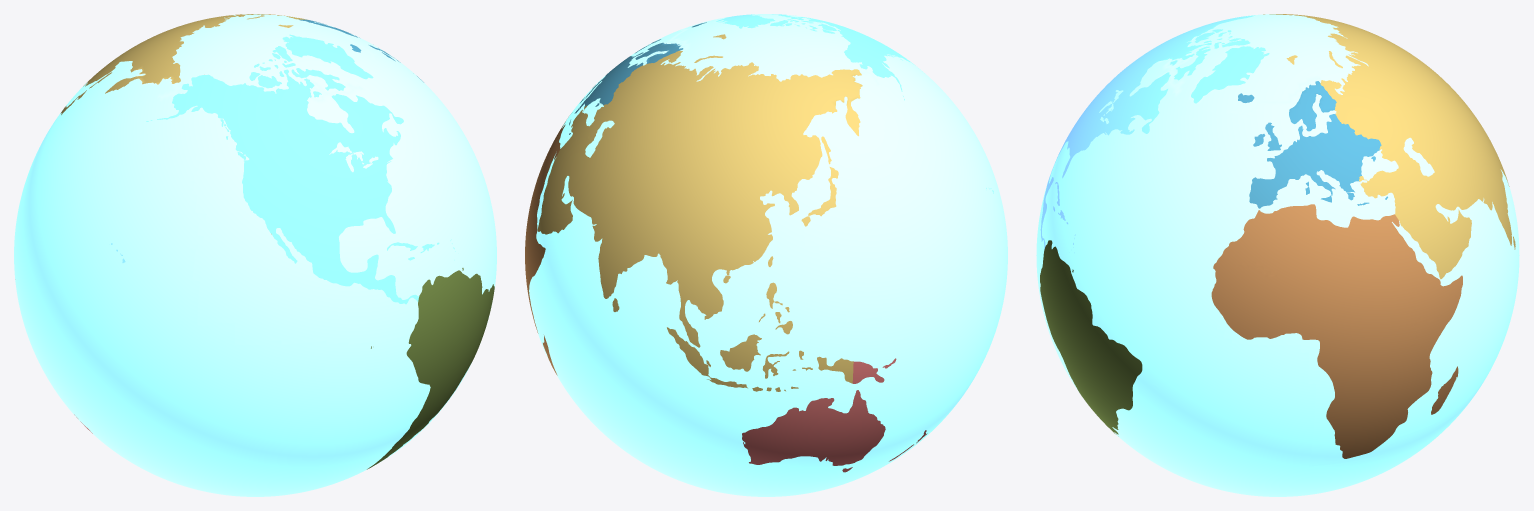
File: Globe.006.fbx
3 renders of one model, left to right at view 1: azimuth 30°, elevation 25°; view 2: azimuth 150°, elevation 25°; view 3: azimuth 270°, elevation 25°, orthographic.
Parts seen in each view (by area): view 1: Sphere; view 2: Sphere; view 3: Sphere.
Boxes of the visible parts, x1,y1,x2,y2 form: Sphere: (14, 14, 496, 496); Sphere: (525, 14, 1007, 496); Sphere: (1036, 14, 1519, 496).
Size of the model in its own units: 1780 by 1780 by 1780.
